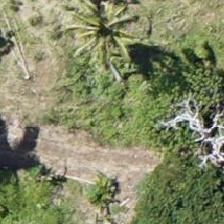coconut_tree: (51, 0, 141, 80)
